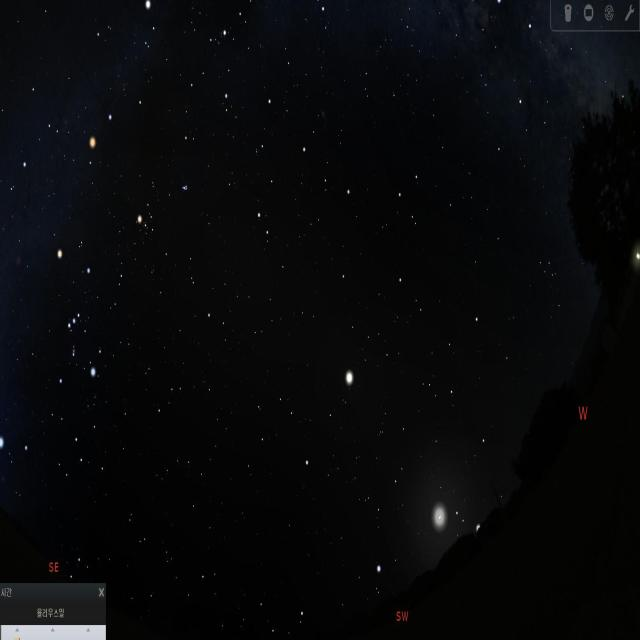moon: (426, 489, 457, 549)
orion: (41, 228, 98, 394)
pleiades: (177, 181, 192, 197)
taurus: (136, 173, 193, 263)
